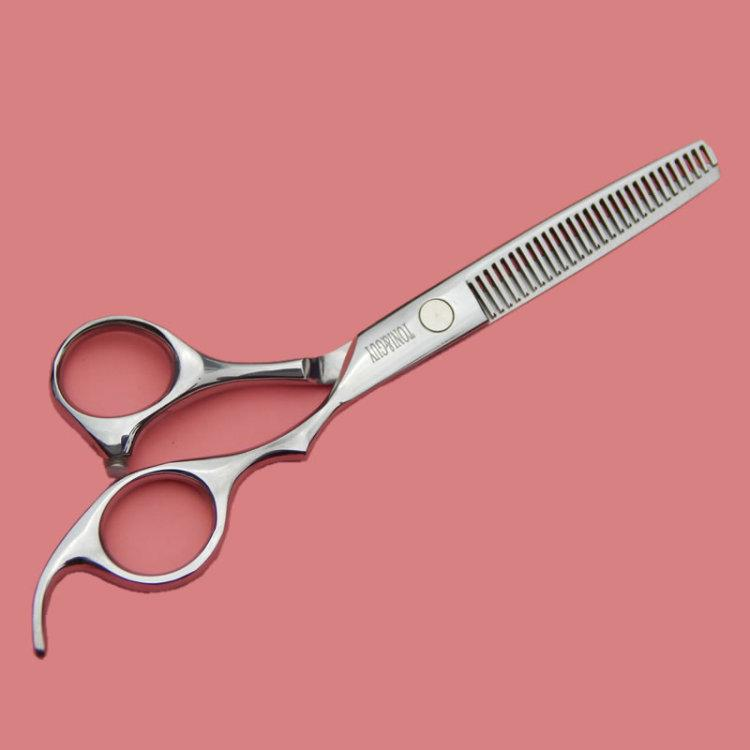scissor: (106, 22, 735, 672)
